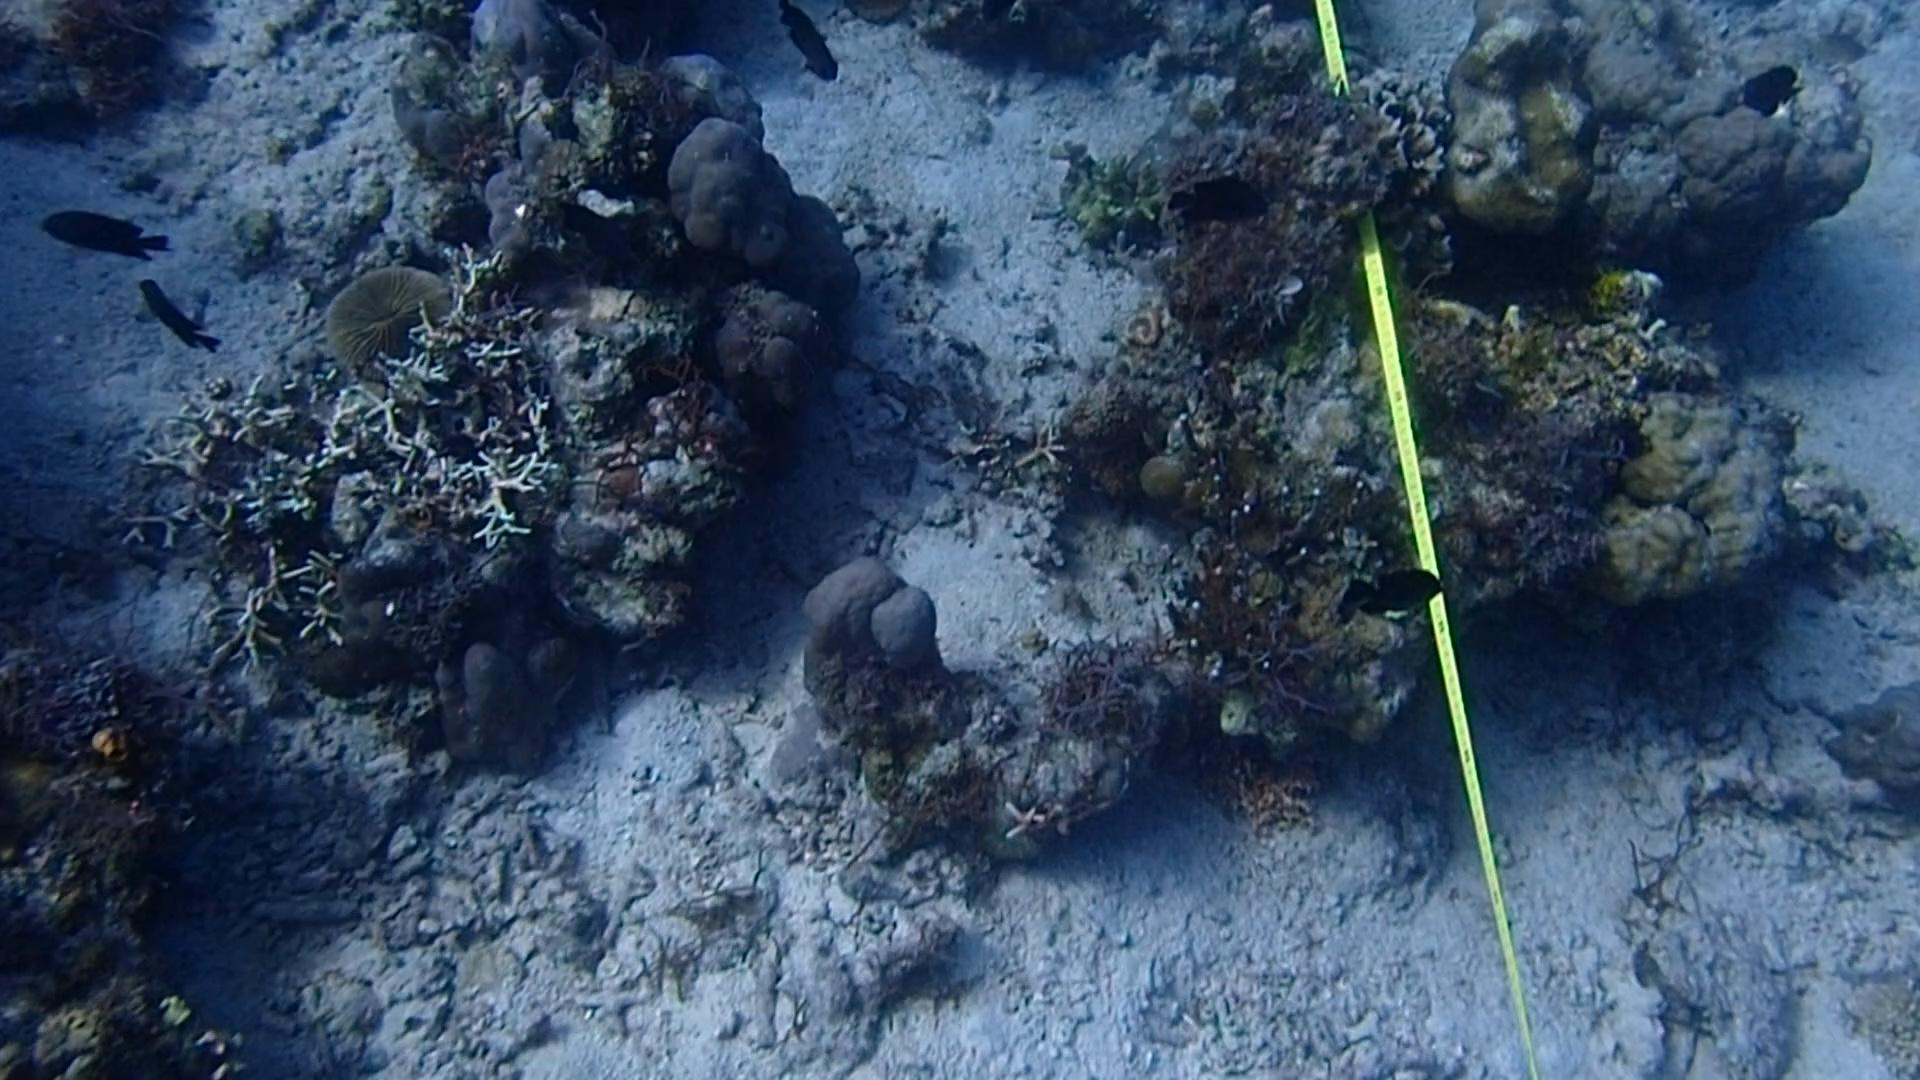Dark Fish: (1158, 165, 1290, 257), (550, 193, 658, 301), (1320, 566, 1453, 636), (128, 278, 228, 369), (36, 206, 170, 272), (761, 3, 856, 95), (1721, 58, 1815, 117)
